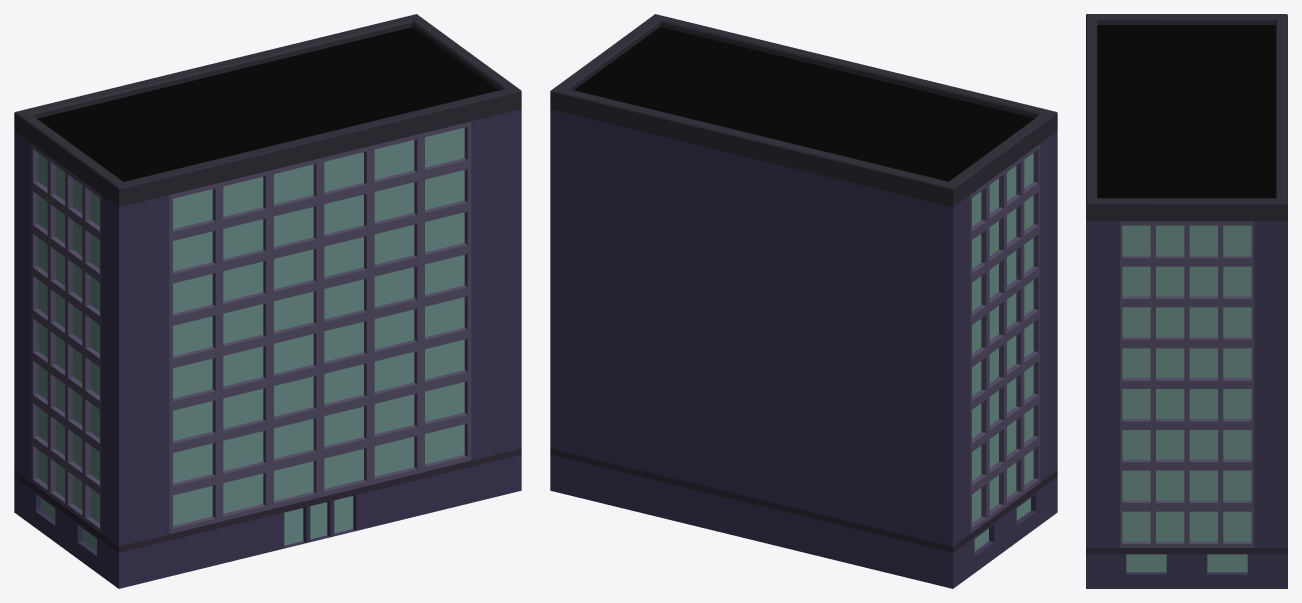
The model's file is edificio_11.fbx.
The picture shows the model from 3 angles, left to right: view 1: azimuth 30°, elevation 25°; view 2: azimuth 150°, elevation 25°; view 3: azimuth 270°, elevation 25°; orthographic projection. The views are drawn at different scales.
Parts seen in each view (by area): view 1: Edifico_07; view 2: Edifico_07; view 3: Edifico_07.
Boxes of the visible parts, x1,y1,x2,y2 form: Edifico_07: [14, 14, 521, 588]; Edifico_07: [550, 14, 1057, 588]; Edifico_07: [1086, 14, 1287, 588].
Size of the model in its own units: 8000 by 7600 by 3600.
